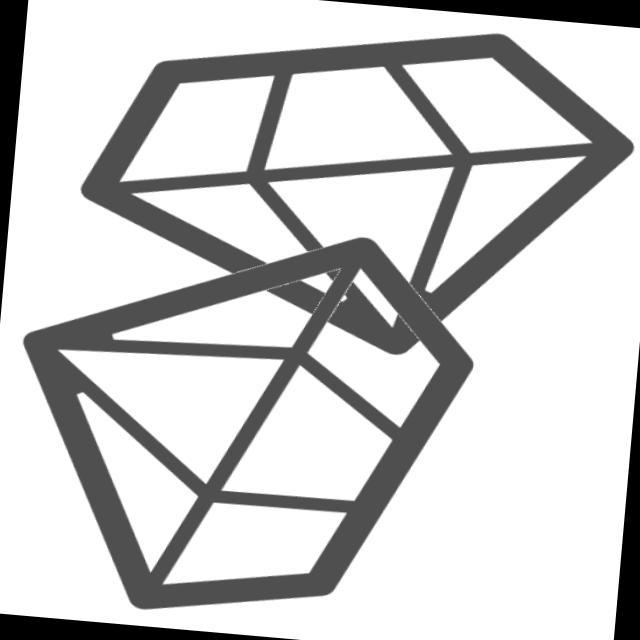diamond: (58, 1, 640, 382), (1, 201, 493, 640)
